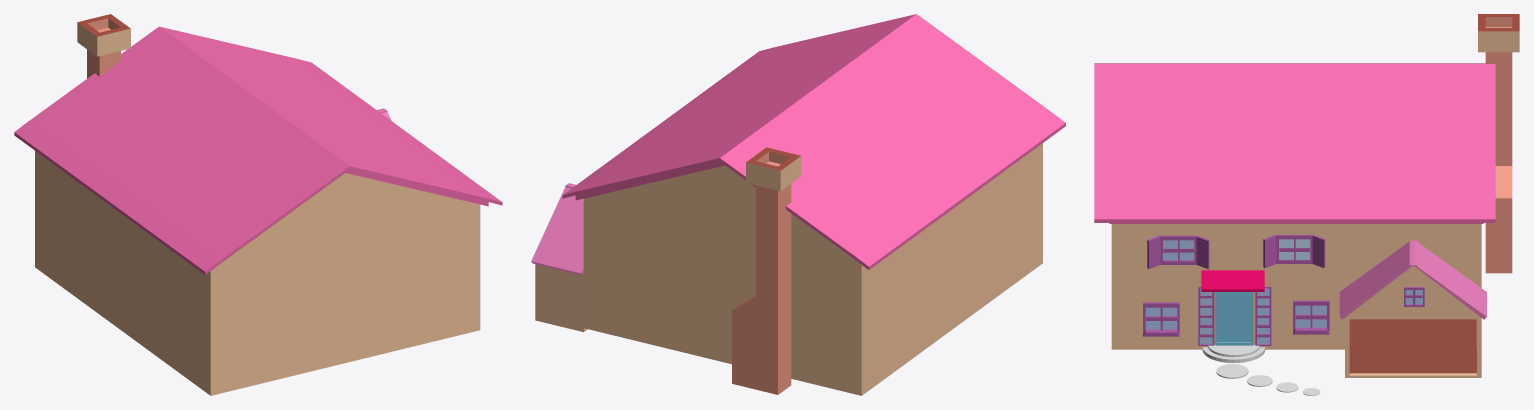
File: casa4.fbx
The picture shows the model from 3 angles, left to right: view 1: azimuth 30°, elevation 25°; view 2: azimuth 150°, elevation 25°; view 3: azimuth 270°, elevation 25°; orthographic projection. The views are drawn at different scales.
Visible parts, largest first — view 1: Cube.030; view 2: Cube.030; view 3: Cube.030.
Boxes of the visible parts, x1=… form: Cube.030: x1=14, y1=14, x2=502, y2=395; Cube.030: x1=531, y1=14, x2=1065, y2=395; Cube.030: x1=1094, y1=14, x2=1519, y2=395.
Bounding box in the file's own units: 1688 × 966 × 1597.
